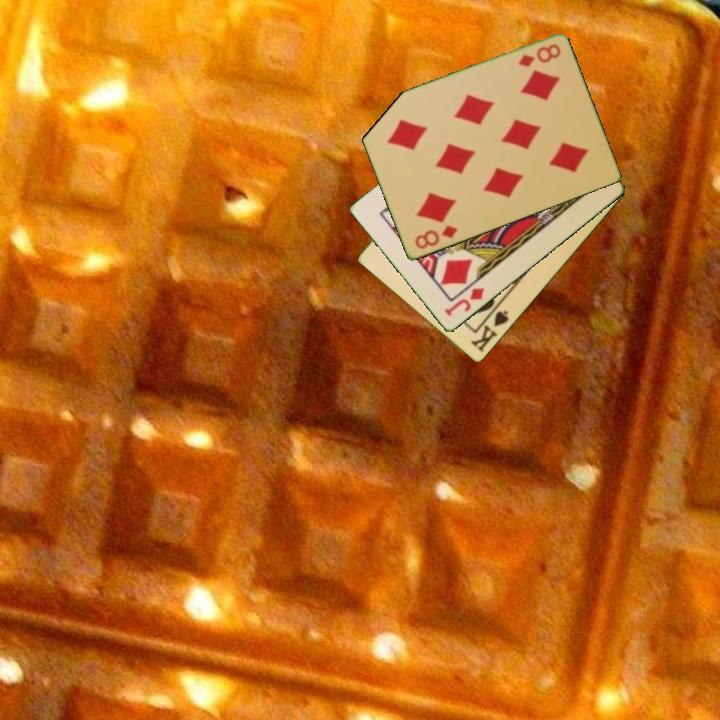8d: (411, 222, 460, 252), (515, 41, 564, 71)
Jd: (441, 284, 487, 320)
Ks: (467, 307, 512, 356)
